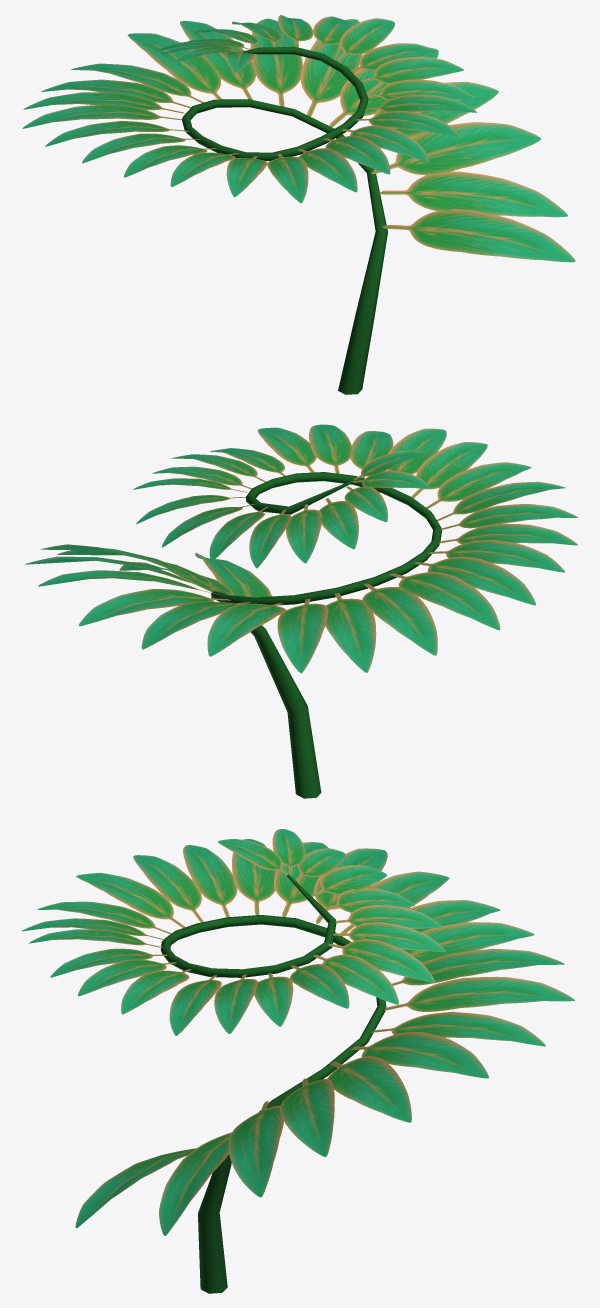
Rendered from SM_Spiral_Plant.fbx.
The picture shows the model from 3 angles, top to bottom: view 1: azimuth 30°, elevation 25°; view 2: azimuth 150°, elevation 25°; view 3: azimuth 270°, elevation 25°; orthographic projection. The views are drawn at different scales.
Visible parts, largest first — view 1: SM_Spiral_Plant; view 2: SM_Spiral_Plant; view 3: SM_Spiral_Plant.
Part boxes in pixels (<box>): SM_Spiral_Plant: <box>22,15,575,394</box>; SM_Spiral_Plant: <box>25,424,577,798</box>; SM_Spiral_Plant: <box>22,829,574,1293</box>.
Bounding box in the file's own units: 86.8 × 78.98 × 59.25.
